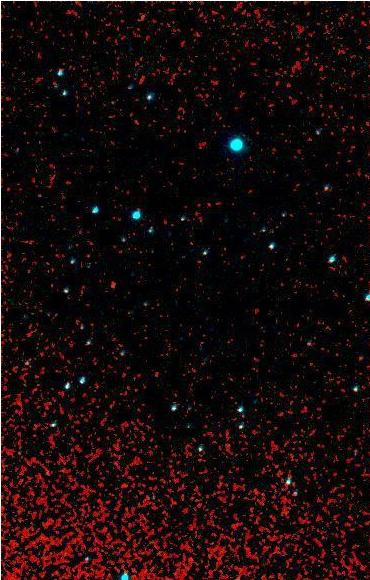star: (99, 268, 129, 298)
